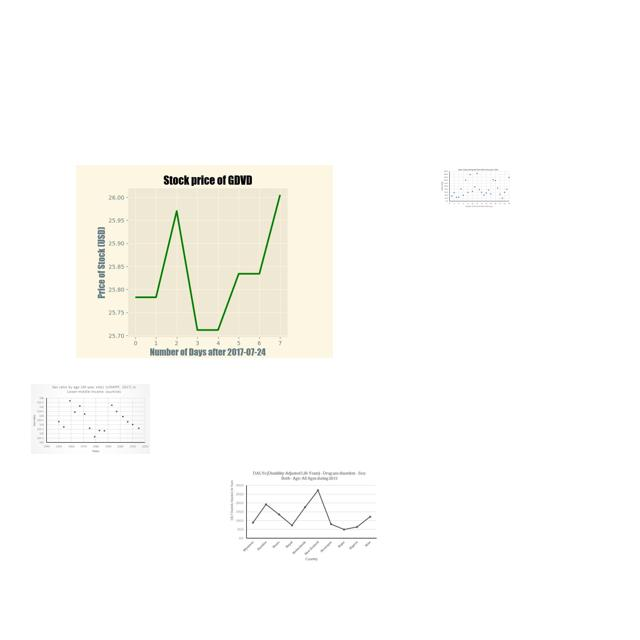Graph: (76, 165, 333, 358), (227, 469, 379, 563), (31, 384, 150, 454), (441, 168, 511, 208)
